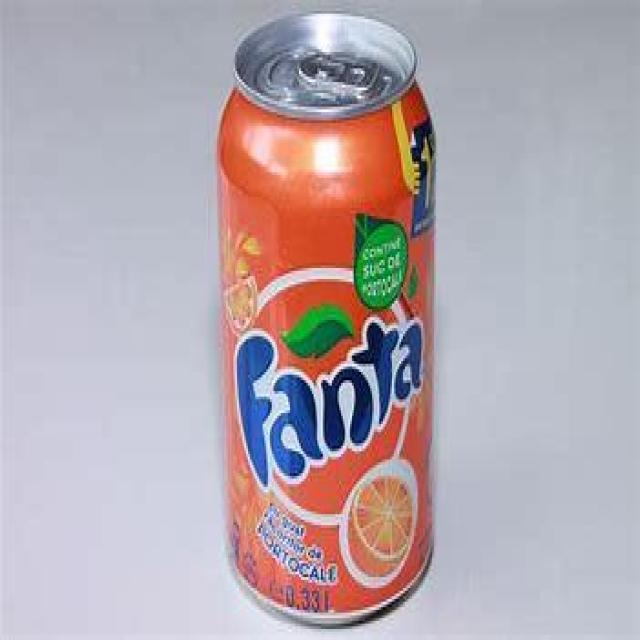can: (211, 8, 434, 630)
pop tab: (297, 52, 382, 95)
